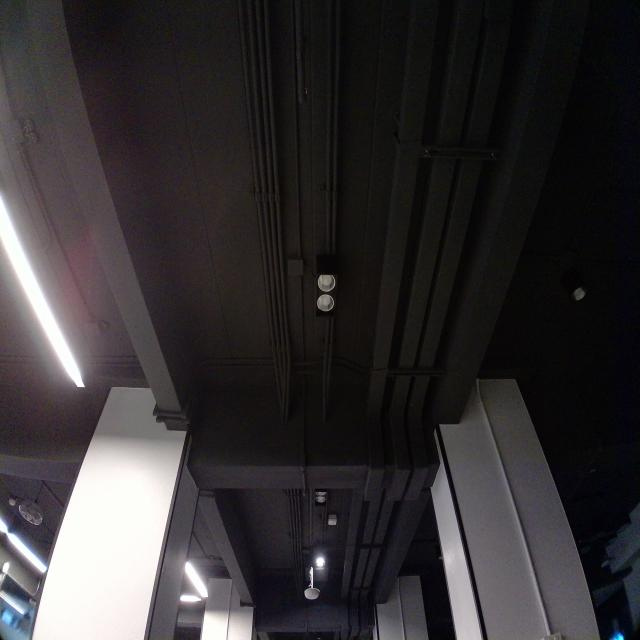lamp1_off: (304, 251, 347, 333)
